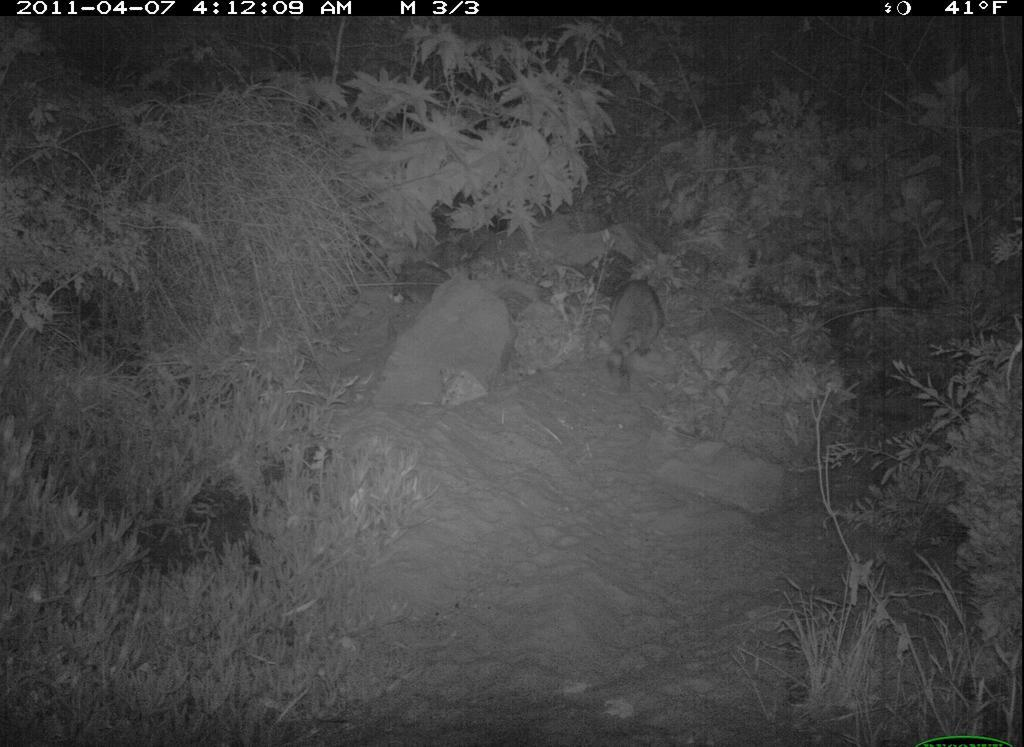raccoon: (593, 259, 666, 382)
